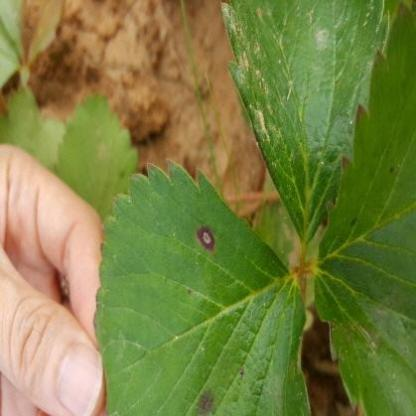Strawberry_Leaf_Spot: (92, 158, 312, 415), (312, 0, 415, 415)
